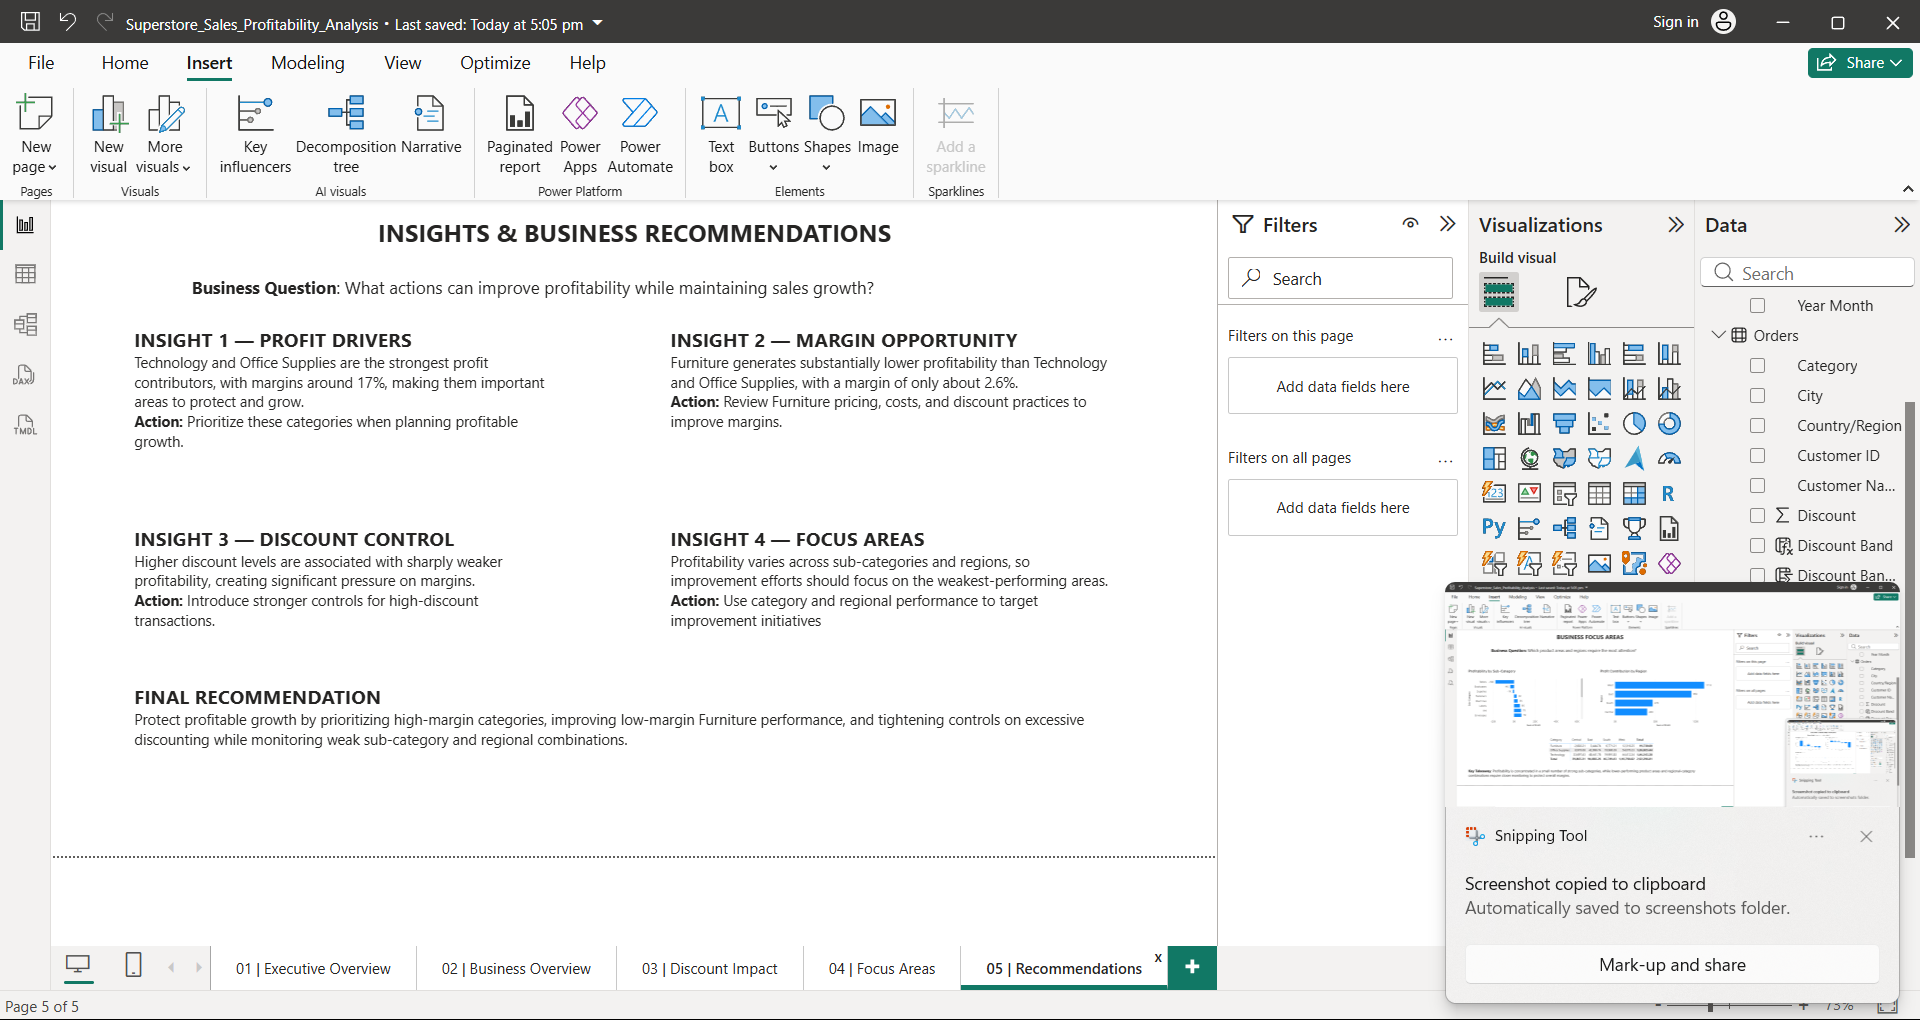

The page's visual inventory and layout, read from the dashboard file:
{"tool":"powerbi","page":{"name":"05 | Recommendations","canvas":[1280,720],"ordinal":4},"visuals":[{"type":"textbox","box":[354,12.3,595.5,50.8],"z":0},{"type":"textbox","box":[149.6,78.2,790.4,42.5],"z":1},{"type":"textbox","box":[86.4,133.1,465.2,156.4],"z":2},{"type":"textbox","box":[675.1,133.1,495.4,156.4],"z":3},{"type":"textbox","box":[86,351,465,156],"z":4},{"type":"textbox","box":[675.1,351.3,495.4,156.4],"z":5},{"type":"shape","box":[86.4,525.6,1084.1,156.4],"z":6},{"type":"textbox","box":[86.4,525.6,1084.1,156.4],"z":7}]}

Visuals, with their boxes on the page's 1280x720 design canvas (x1, y1, x2, y2). These are canvas units, not pixel positions in the 1920x1020 screenshot, which may show the page scaled, cropped or inside an application window:
textbox: BBox(354, 12, 950, 63)
textbox: BBox(150, 78, 940, 121)
textbox: BBox(86, 133, 552, 290)
textbox: BBox(675, 133, 1170, 290)
textbox: BBox(86, 351, 551, 507)
textbox: BBox(675, 351, 1170, 508)
shape: BBox(86, 526, 1170, 682)
textbox: BBox(86, 526, 1170, 682)
